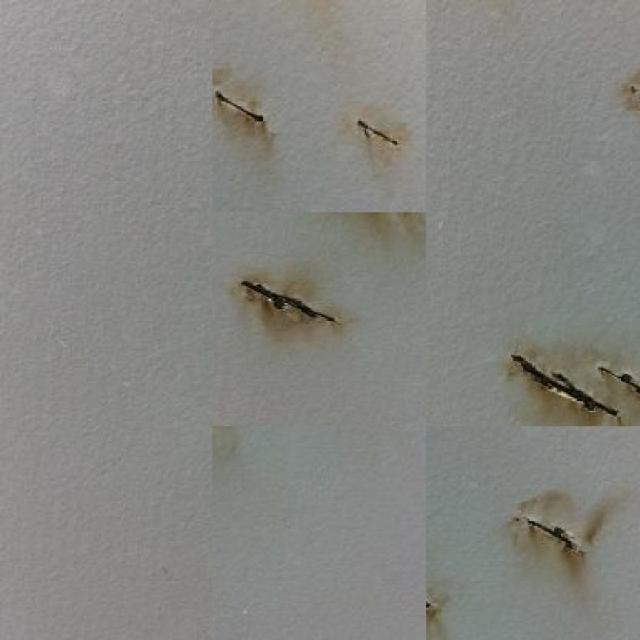crack: (509, 358, 623, 417), (240, 282, 337, 324), (520, 514, 585, 550), (356, 118, 402, 151), (217, 96, 256, 119)
